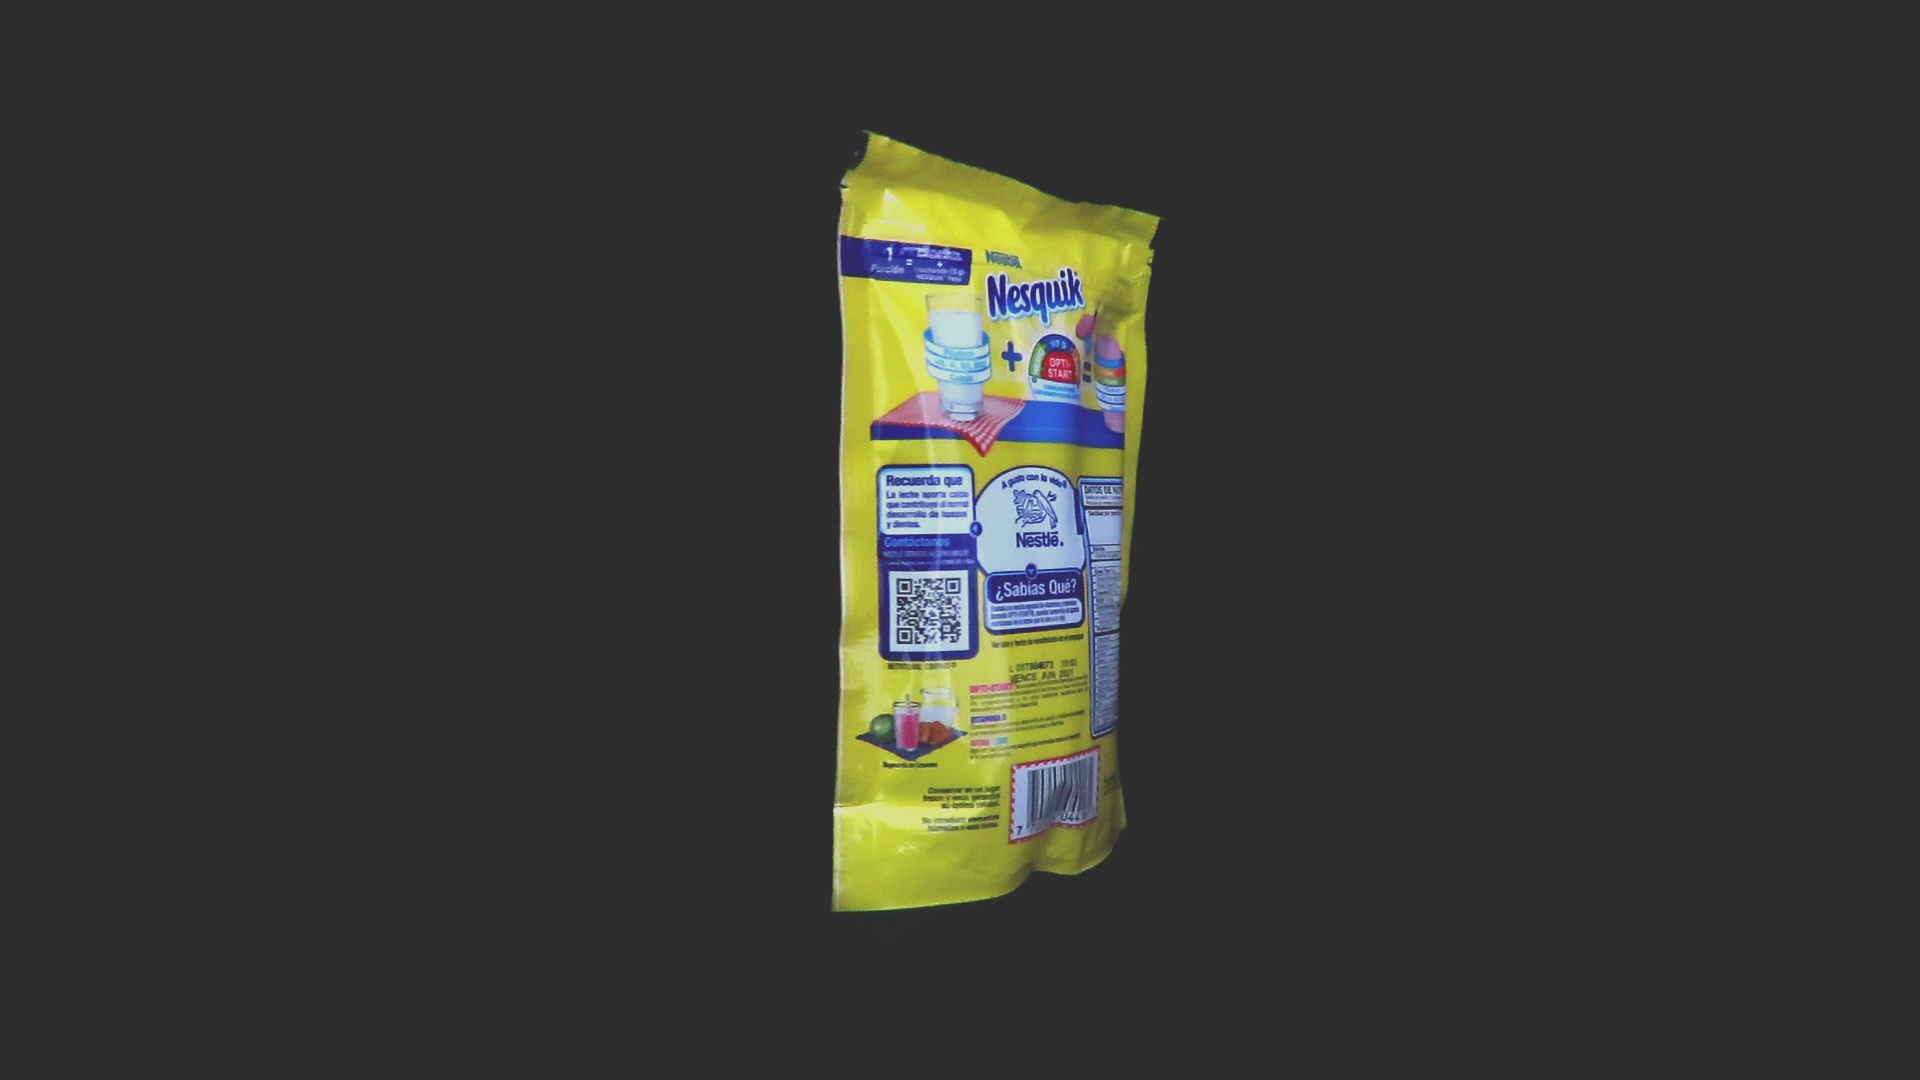COL0170305DYP20000: (825, 125, 1171, 918)
